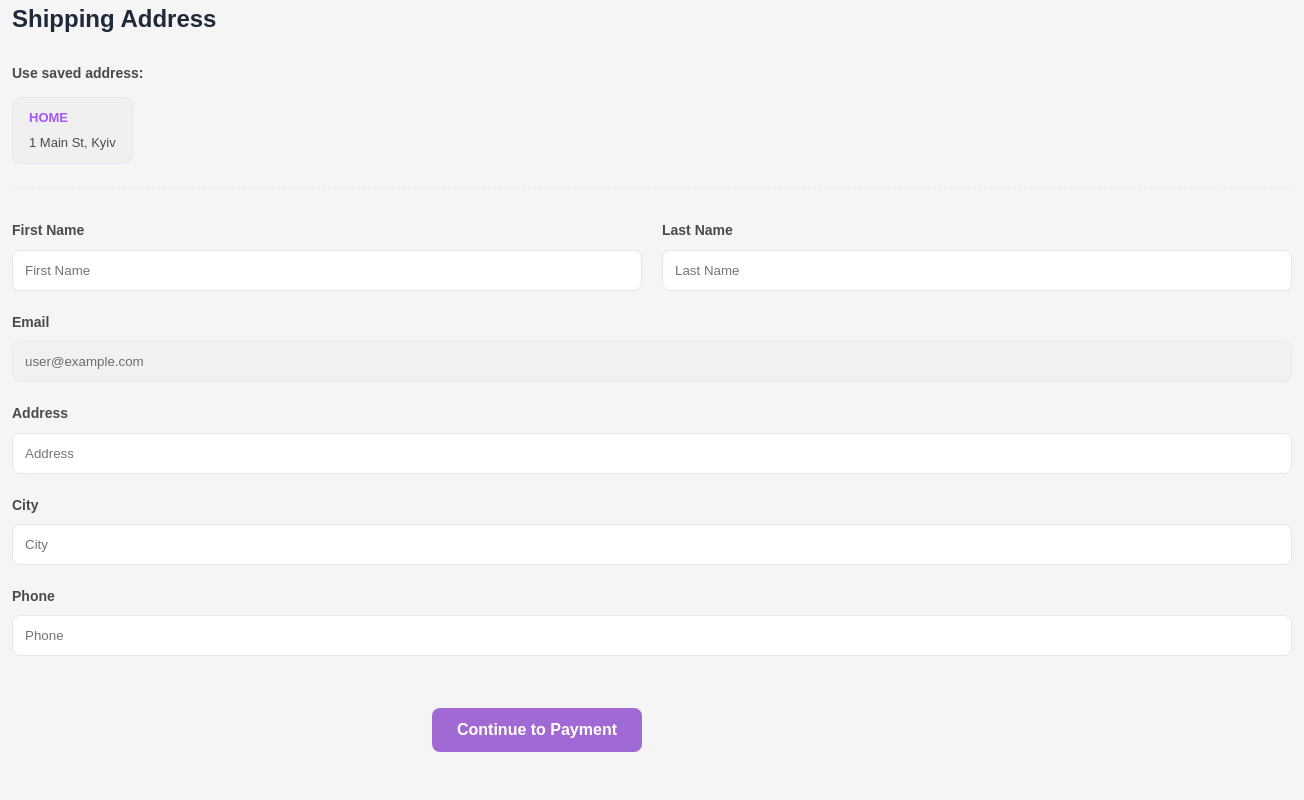
ShippingStep › fills the form from a saved address
Click the text "Home" at (48, 117), box [29,110,68,125]
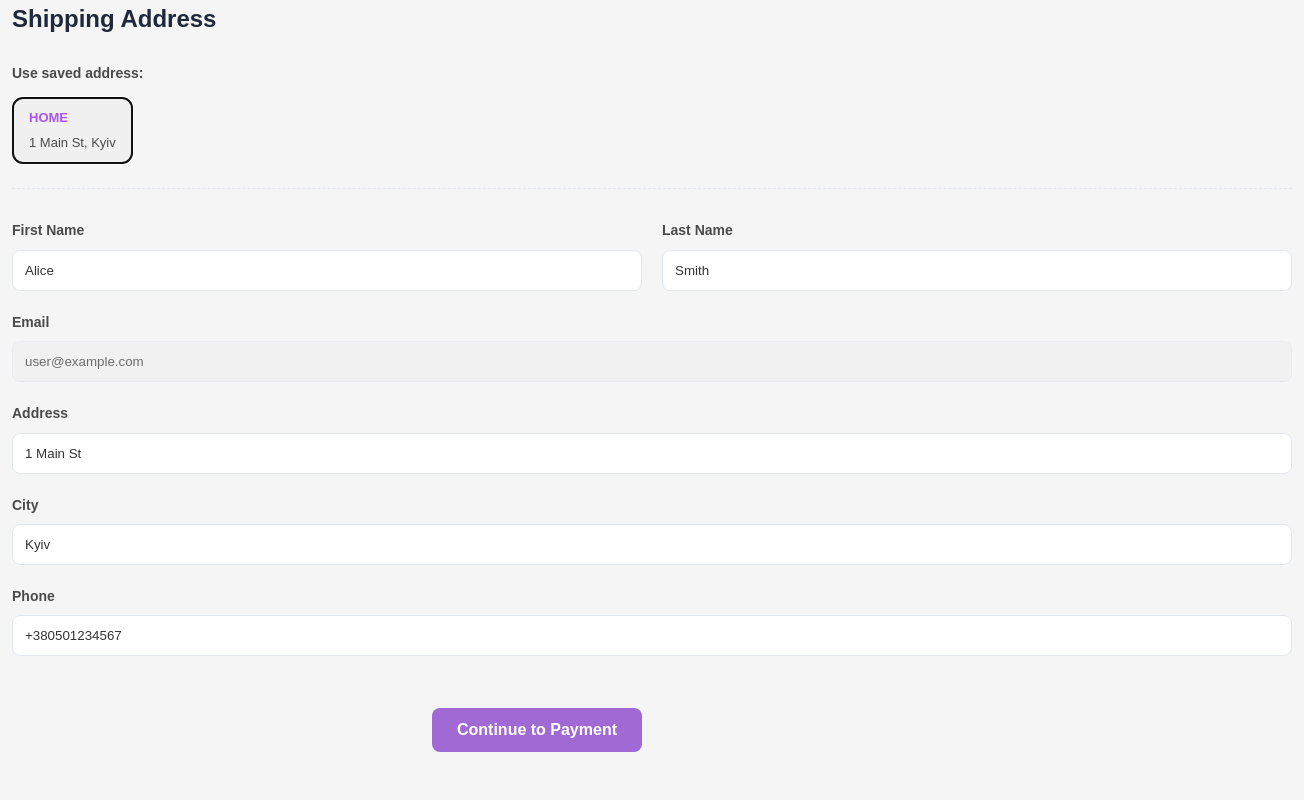
Check: the field labelled "First Name" holds "Alice", box [12,250,642,291]
Check: the field labelled "Last Name" holds "Smith", box [662,250,1292,291]
Check: the field labelled "Address" holds "1 Main St", box [12,432,1292,474]
